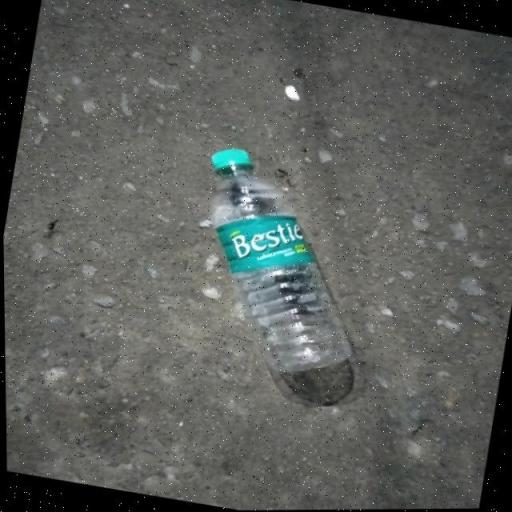plastic: (174, 141, 384, 386)
